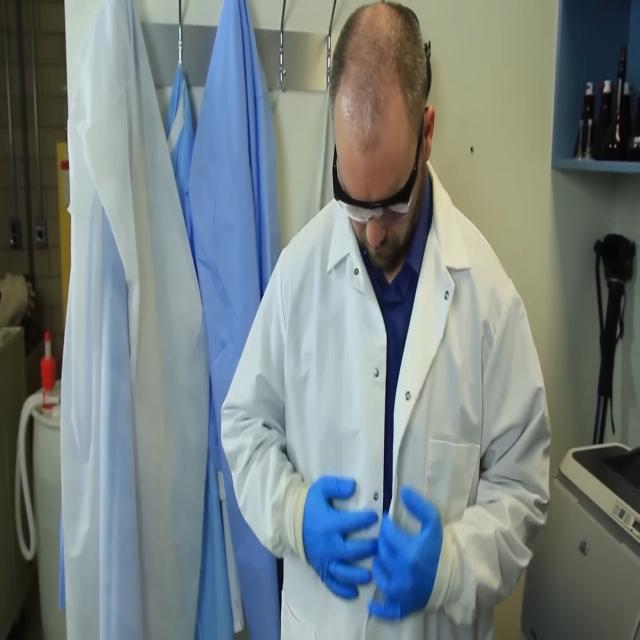googles: (328, 119, 424, 222)
labcoat: (218, 0, 550, 640), (55, 0, 211, 640), (187, 0, 286, 640), (158, 45, 200, 262)
